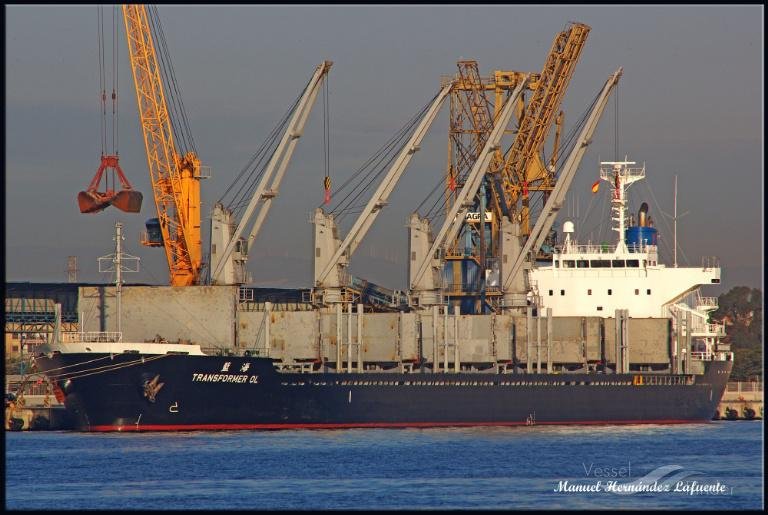OCR: (183, 368, 263, 390)
